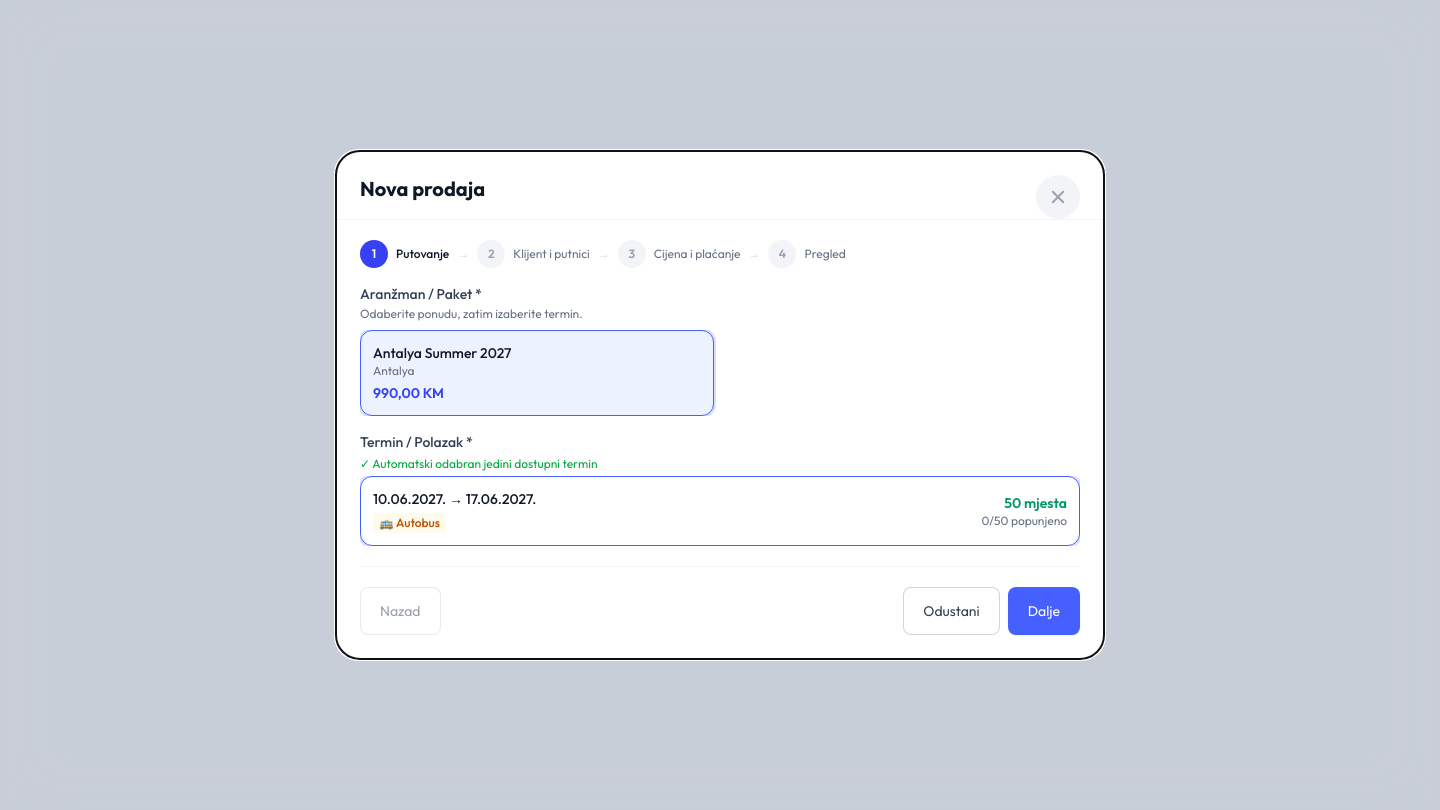
Scenario: NewSaleWizard — M03.1 step structure › payment controls are on the payment step, not on Review
Expected: the text "Antalya Summer 2027" is shown, [373, 344, 511, 362]
// Payment step
Click the button "Dalje": [1044, 611] box [1008, 587, 1080, 635]
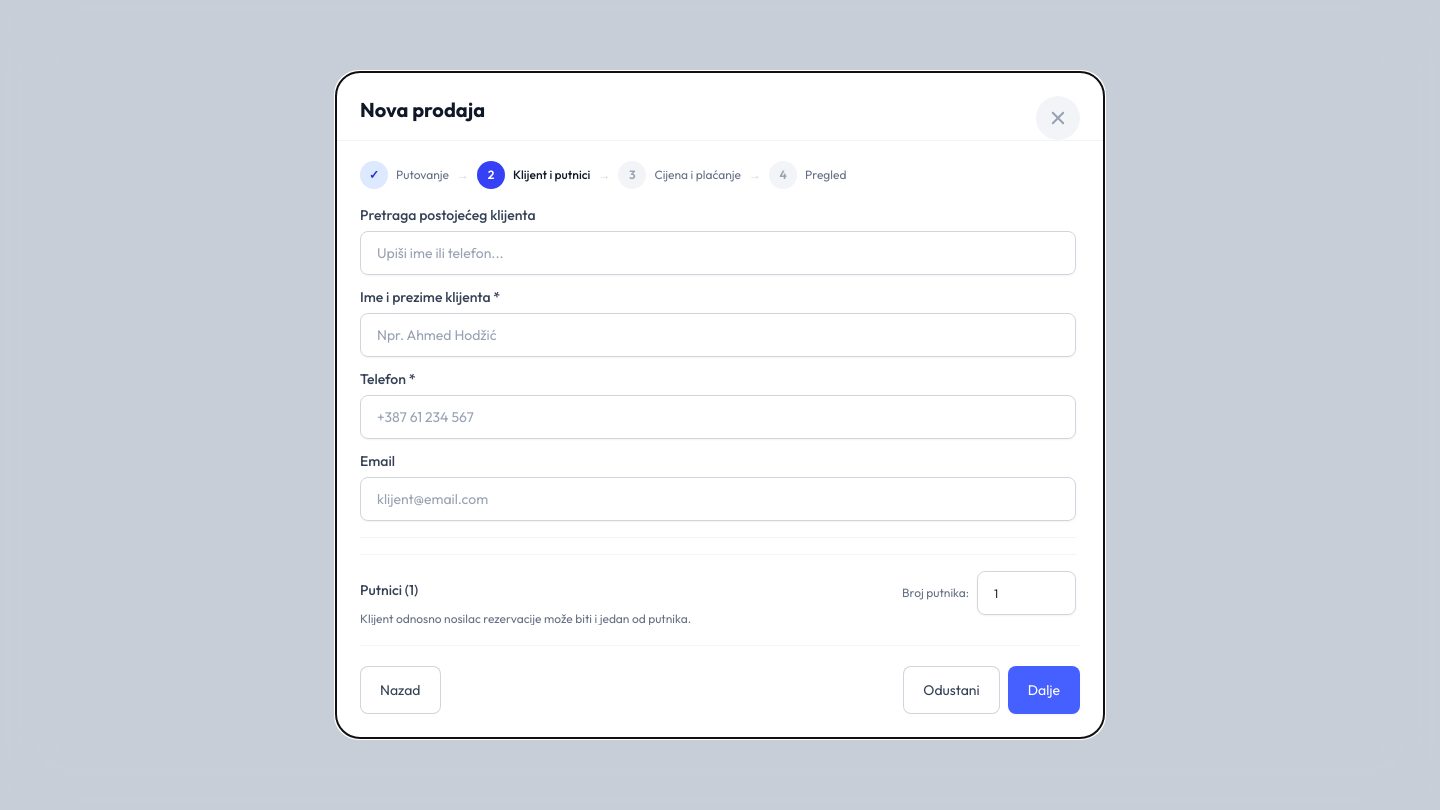
In the field with placeholder "Npr. Ahmed Hodžić": [718, 335] box [360, 313, 1076, 357], type "Amina Hadžić"
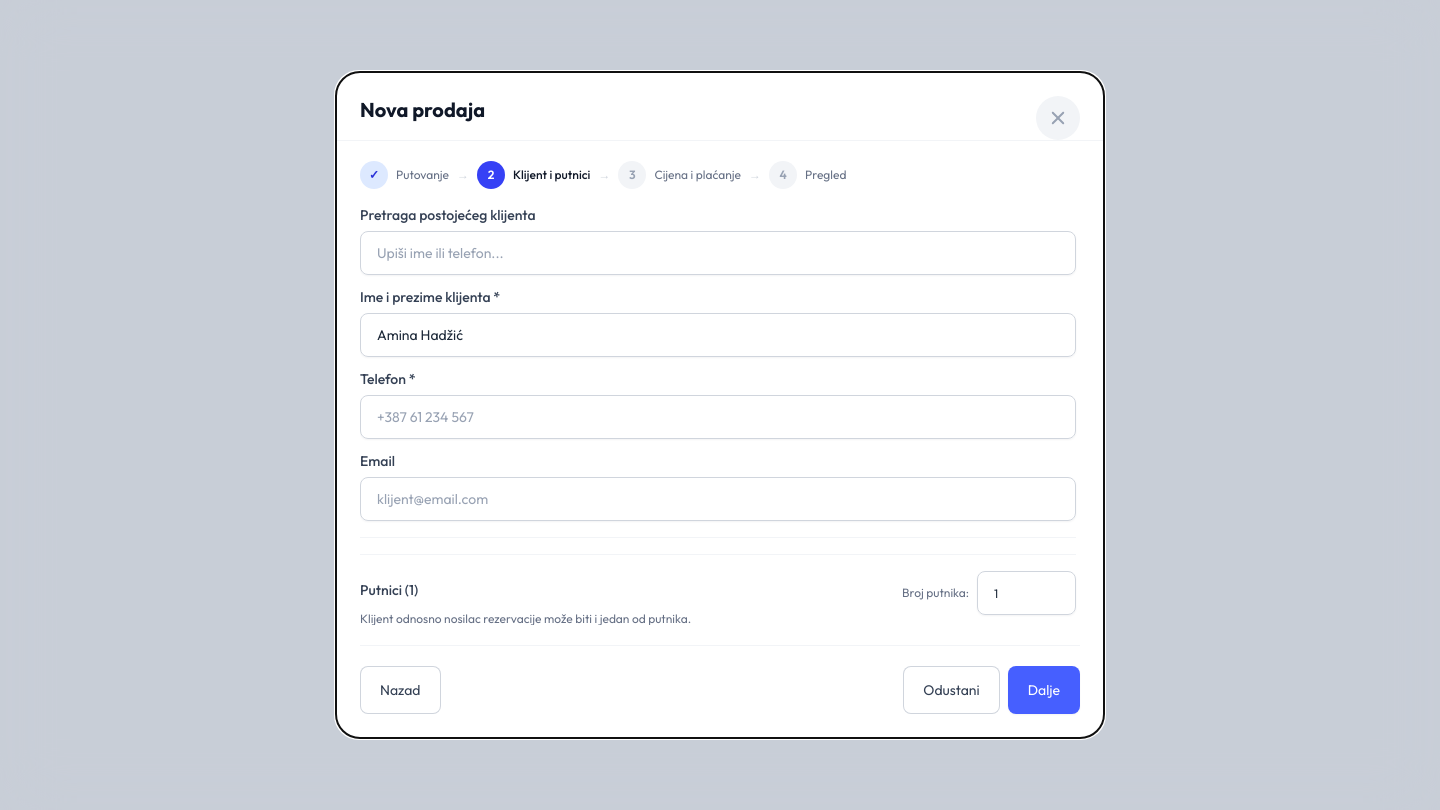
In the field with placeholder "+387 61 234 567": [718, 417] box [360, 395, 1076, 439], type "+38761100001"
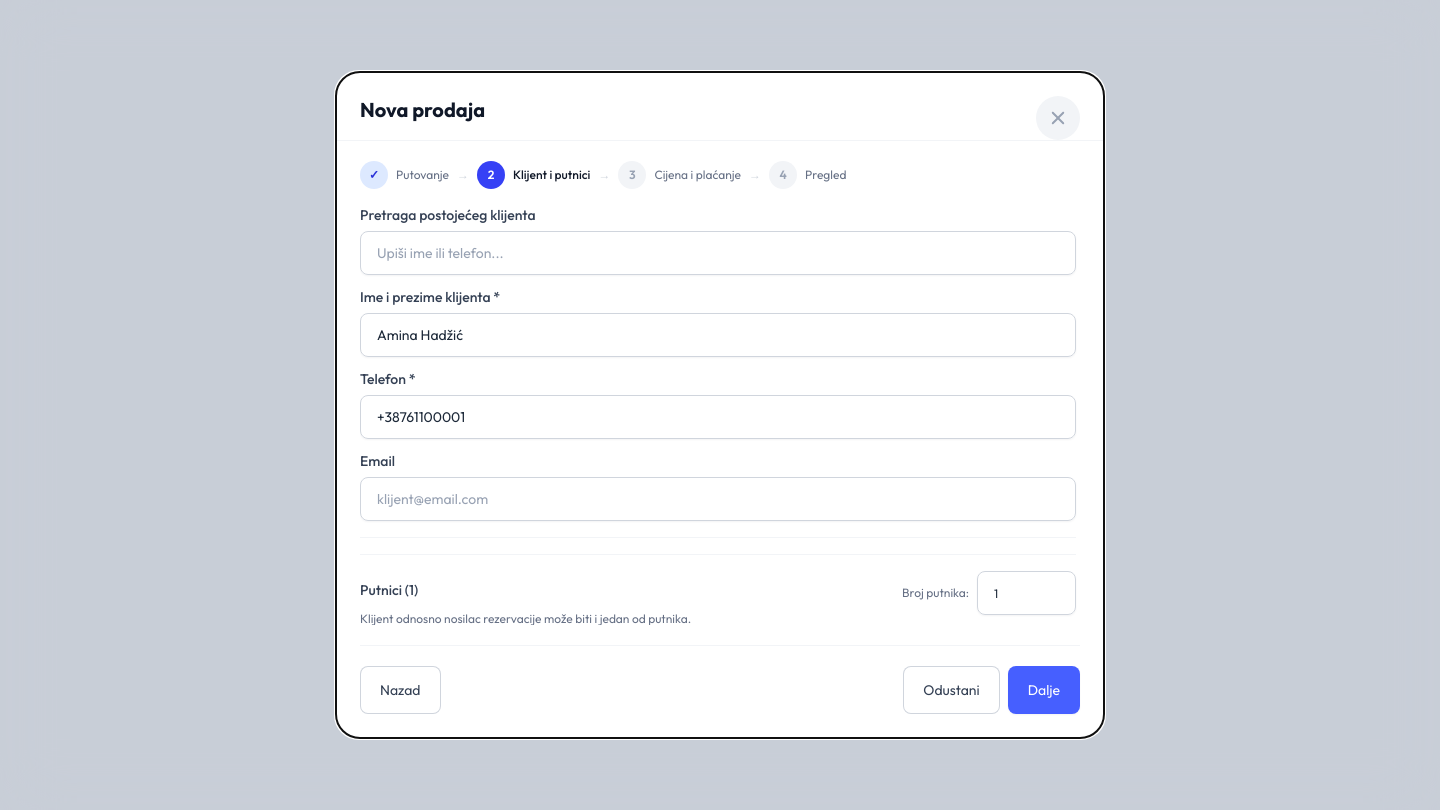
Click the button "Dalje": [1044, 690] box [1008, 666, 1080, 714]
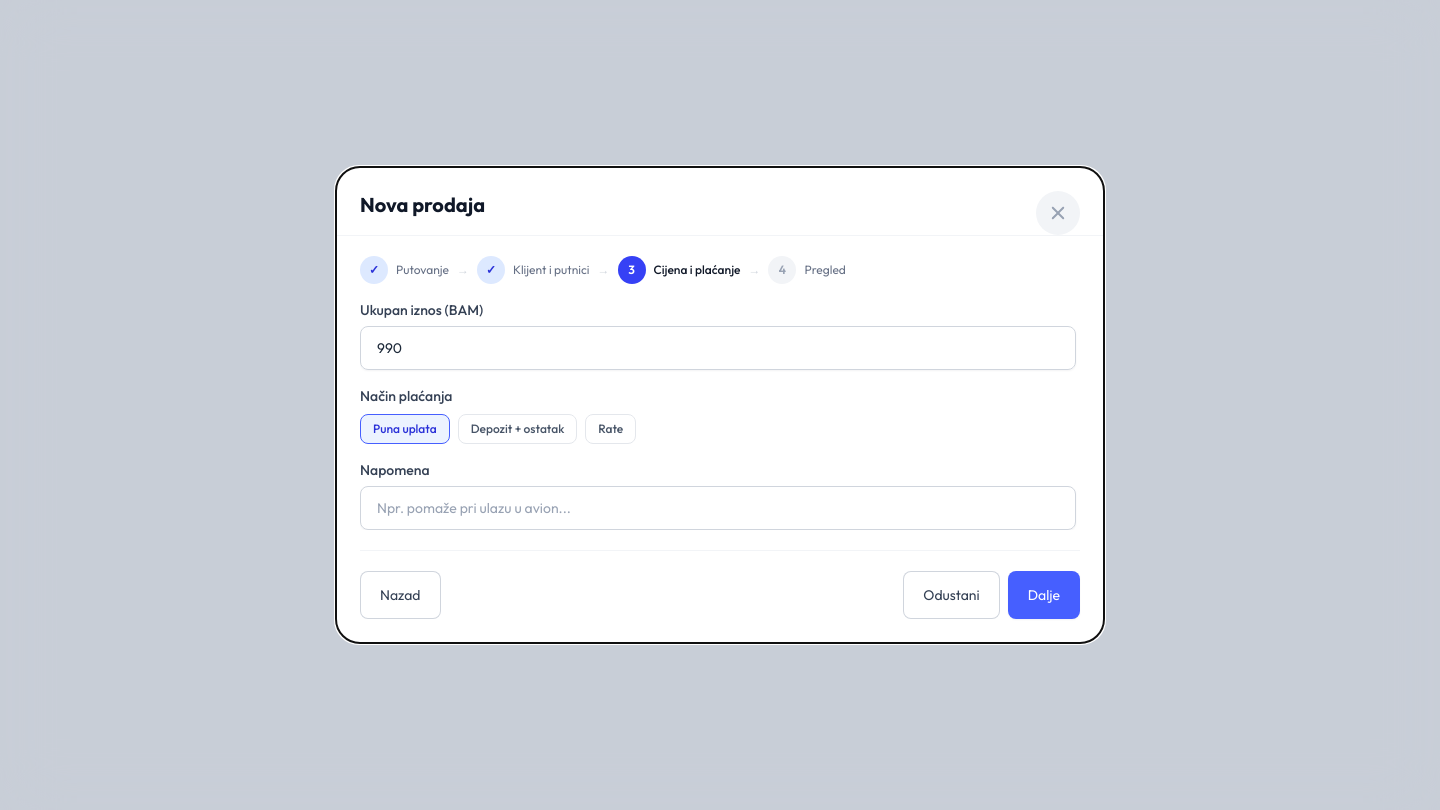
Now the text "Način plaćanja" is shown, box [360, 387, 452, 405]
// Move to Review
Click the button "Dalje": [1044, 595] box [1008, 571, 1080, 619]
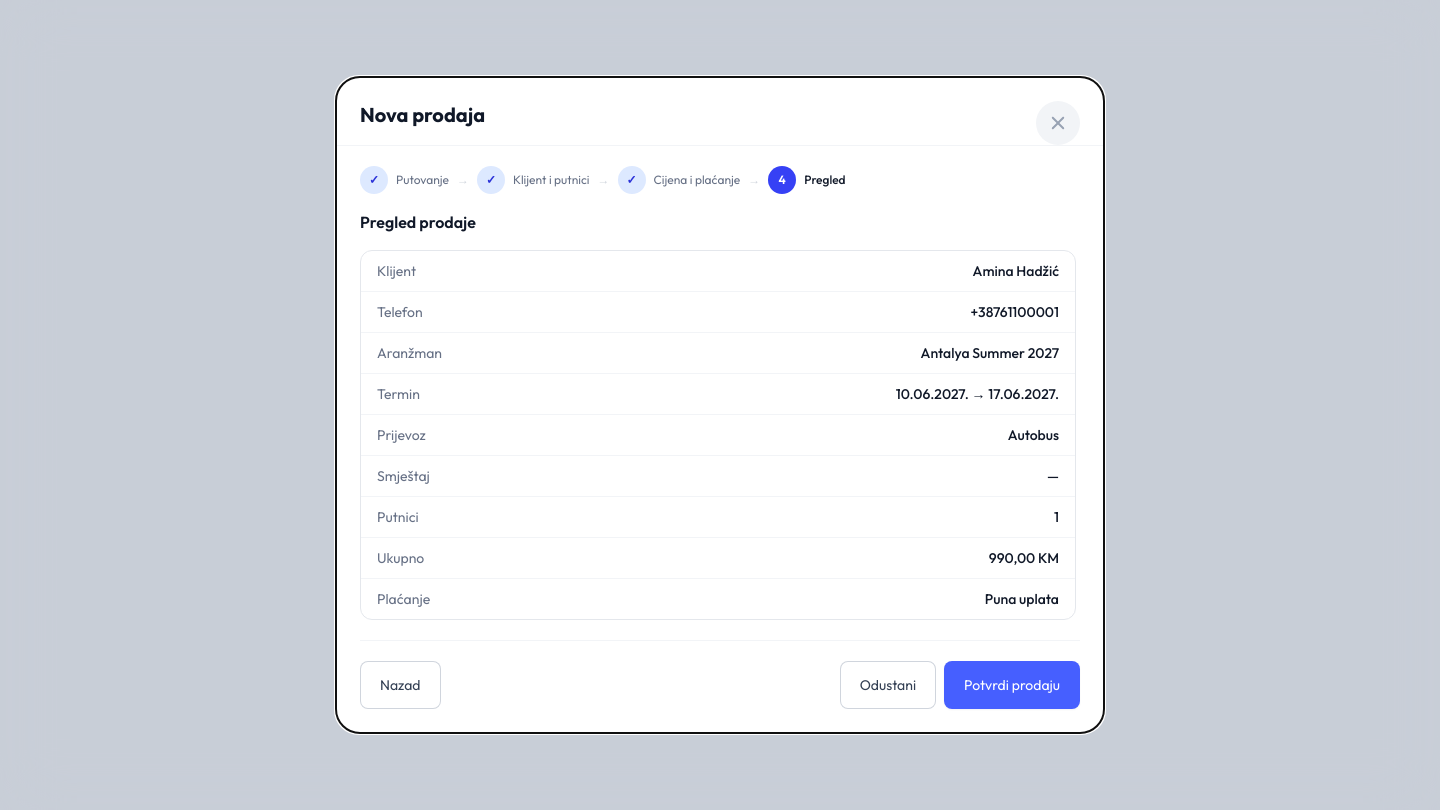
Now the heading "Pregled prodaje" is shown, box [360, 212, 476, 232]
Now the button "Depozit + ostatak" is gone
Now the button "Rate" is gone
